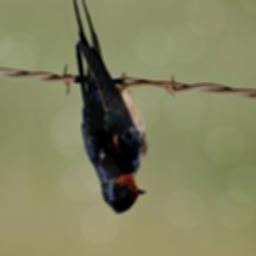Swallow: (67, 0, 147, 217)
